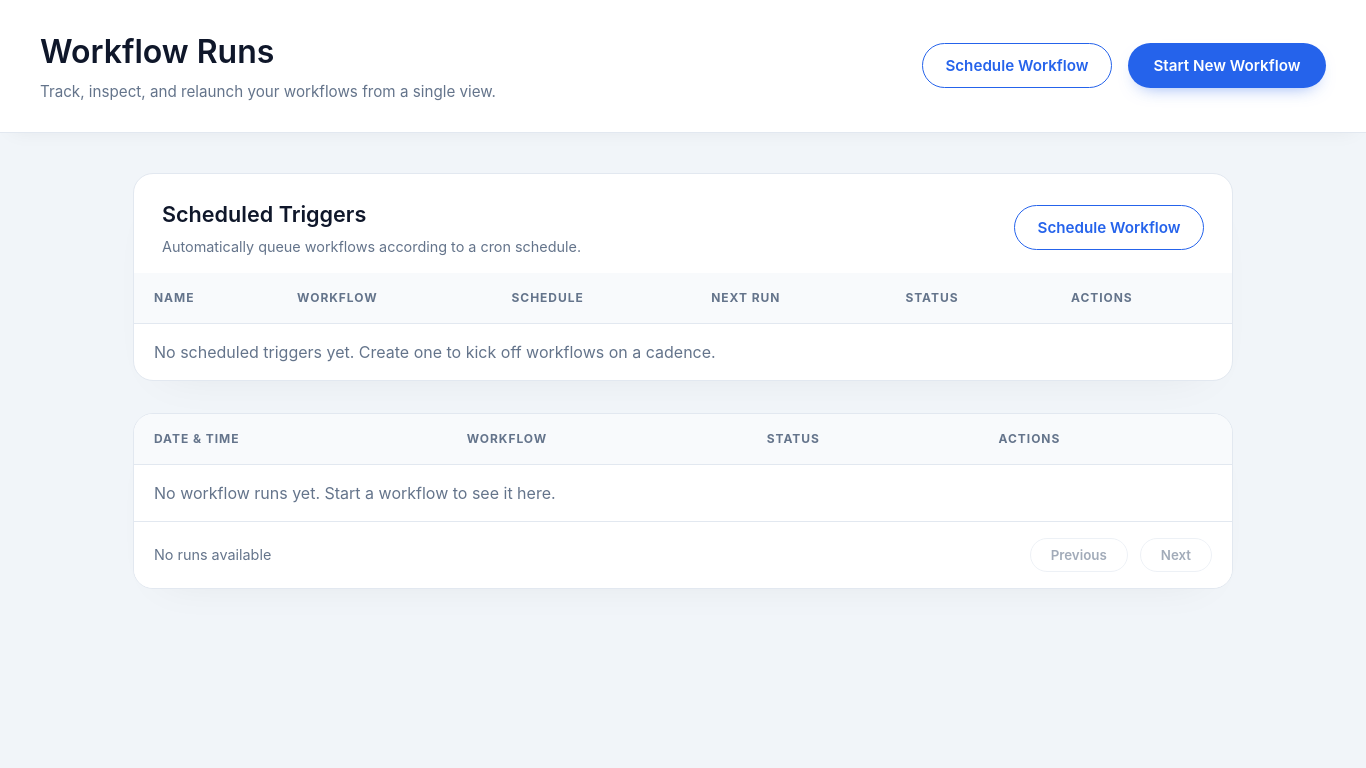
user can start new workflow with selected template
Step 1. Click the button "Start New Workflow" → (1227, 66), box [1128,43,1326,88]
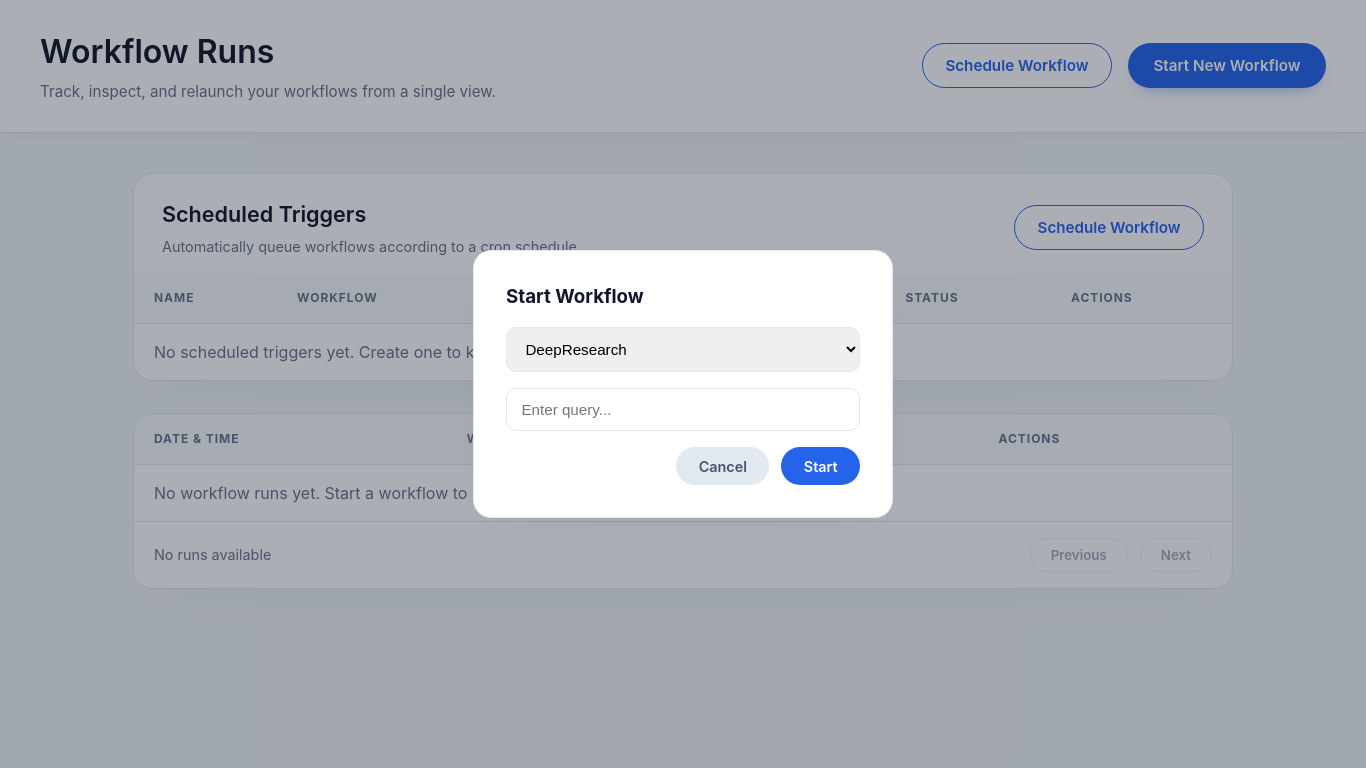
Expected: the button "Start" is shown, [781,447,860,485]
Step 2. Type "my query" into the field with placeholder "Enter query..." → (683, 410), box [506,388,860,431]
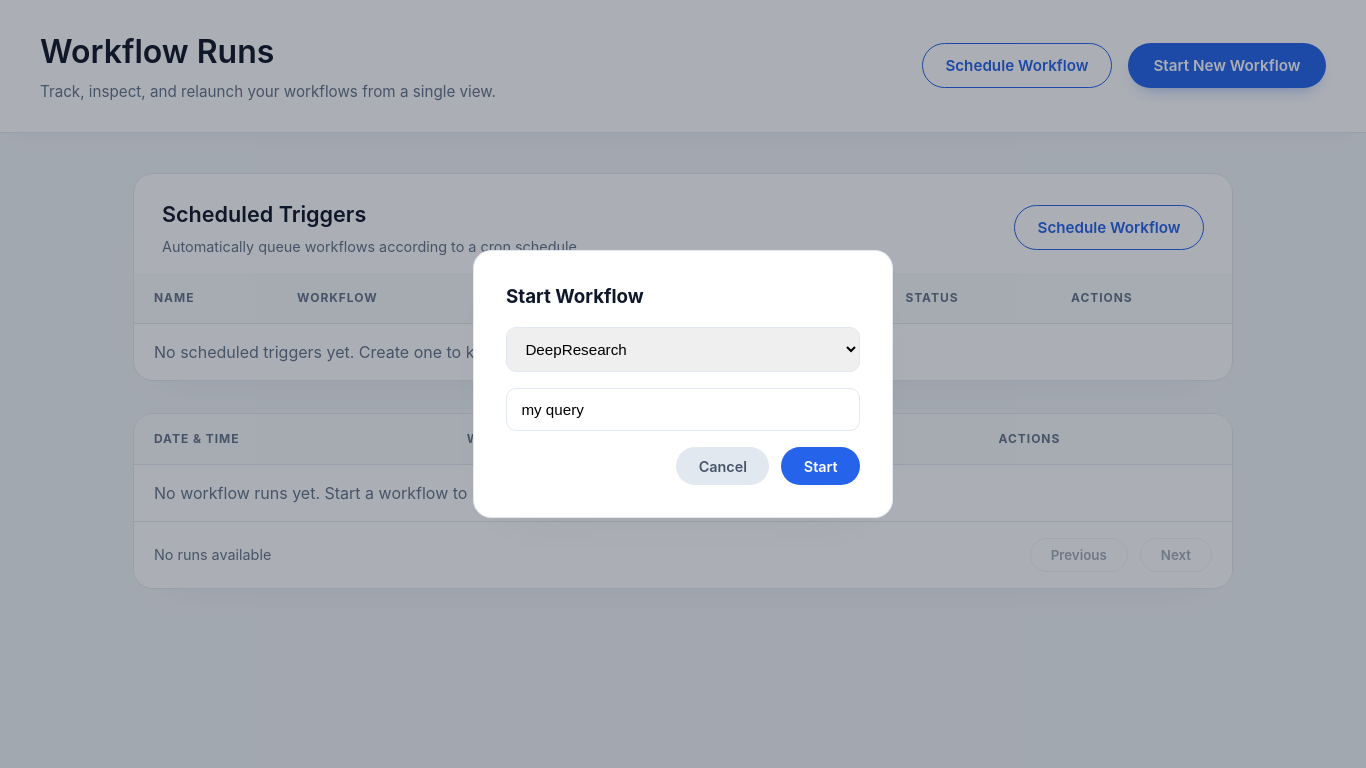
Step 3. Select "Example" in the dropdown with test id "template-select" → (683, 350), box [506,327,860,372]
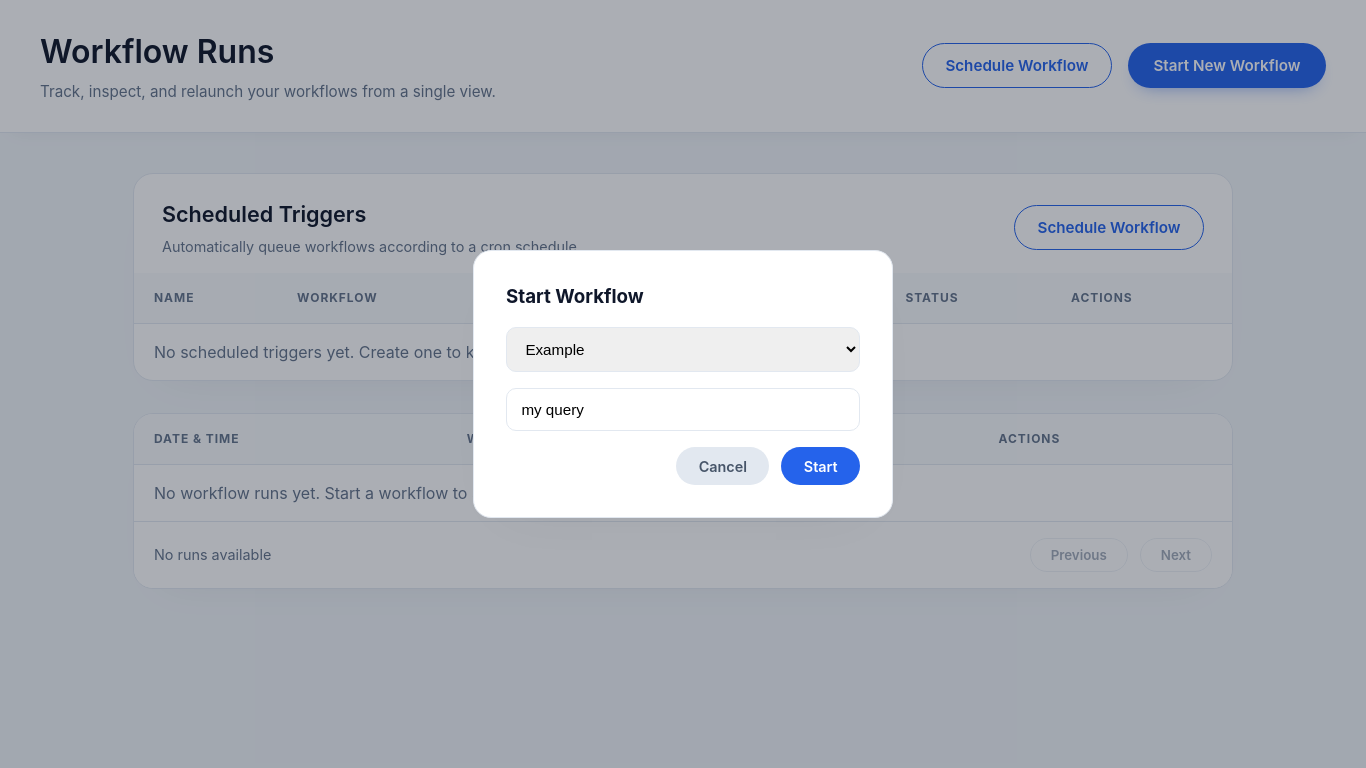
Step 4. Click the button "Start" → (821, 466), box [781,447,860,485]
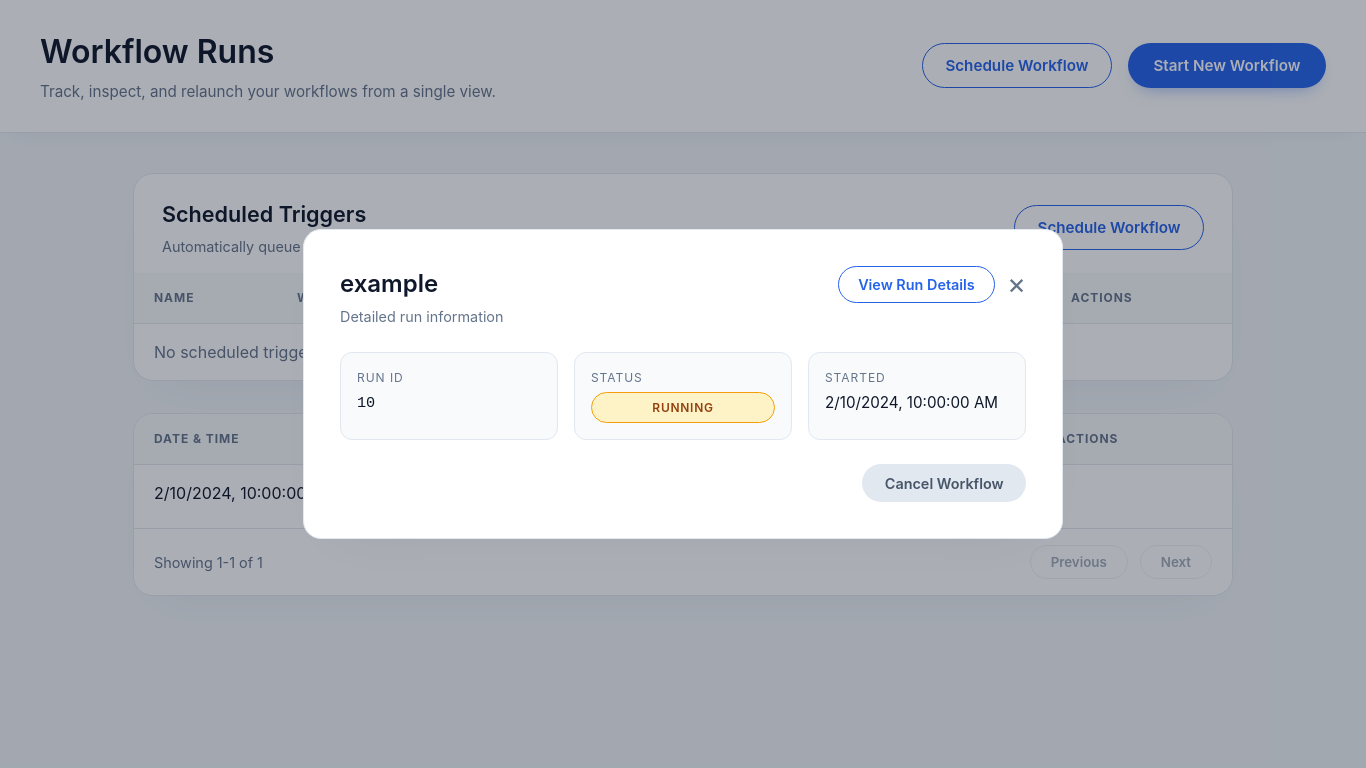
Expected: the text with class "status-running" below "Next Run" is shown, [812,481,900,512]
